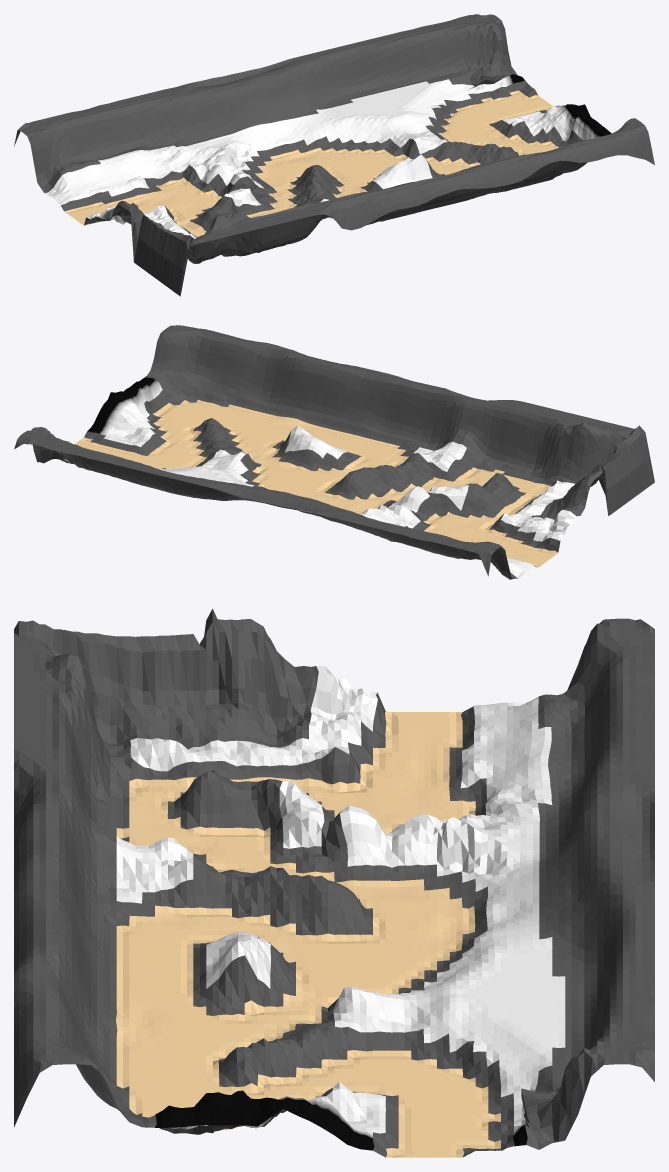
The model's file is Stage2.fbx.
3 views of the same model, one above another, from view 1: azimuth 30°, elevation 25°; view 2: azimuth 150°, elevation 25°; view 3: azimuth 270°, elevation 25° (orthographic). The views are drawn at different scales.
Visible parts, largest first — view 1: Plane028; view 2: Plane028; view 3: Plane028.
Boxes of the visible parts, left/top/right/bottom form: Plane028: left=14, top=14, right=654, bottom=296; Plane028: left=14, top=325, right=654, bottom=579; Plane028: left=14, top=608, right=654, bottom=1157.
Bounding box in the file's own units: 4813 × 574 × 2924.
